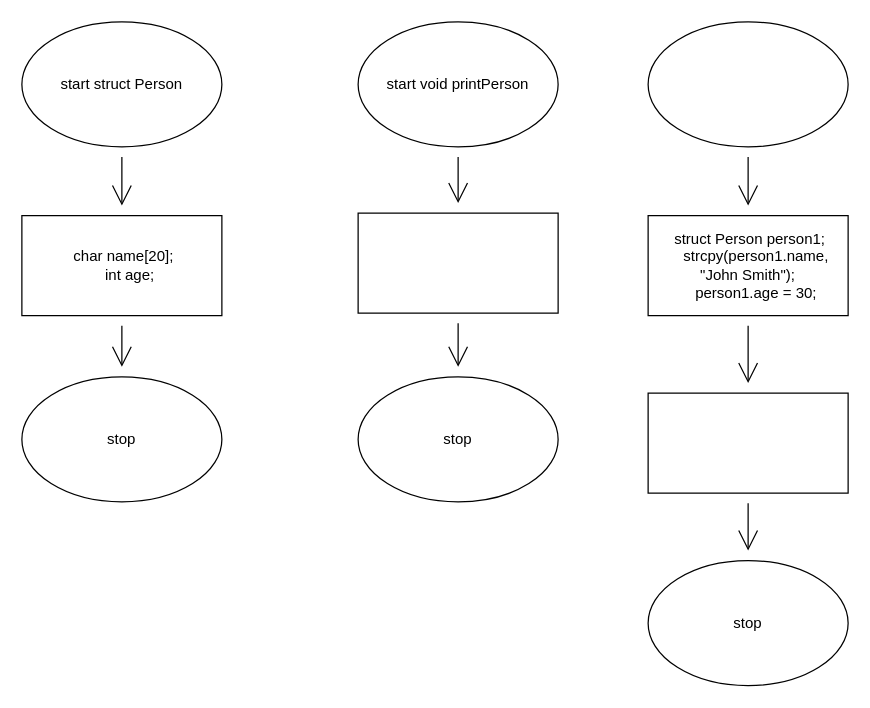
Some shapes in this 870 by 708 pixel diagram are drawn without their labels. Here are the shapes that lost their labels. From the top down, the centre of each, then its label:
At point 747,84: "start main".
At point 457,262: "output = p.name output = p.age".
At point 747,442: "printPerson(person1);".
